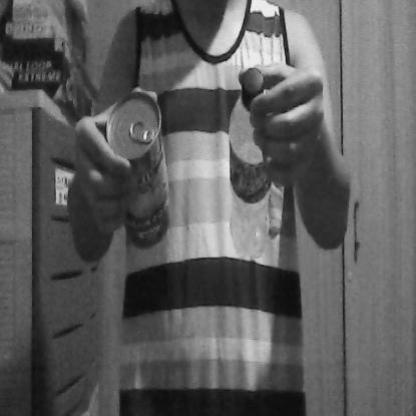Plastic Bottle: (220, 64, 281, 278)
